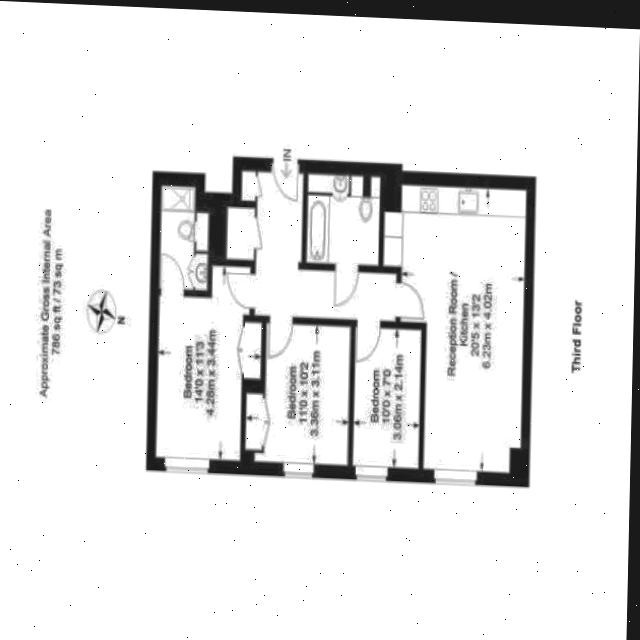room: (379, 184, 526, 472), (225, 170, 400, 321), (155, 264, 263, 460), (244, 322, 354, 465), (353, 326, 421, 467), (307, 173, 381, 264), (159, 185, 209, 289)
